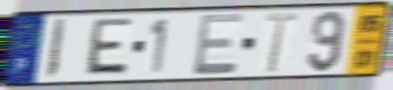1: (148, 16, 169, 76)
9: (307, 8, 348, 75)
E: (191, 11, 246, 78), (81, 16, 135, 78)
I: (43, 16, 69, 81)
T: (264, 10, 300, 75)
